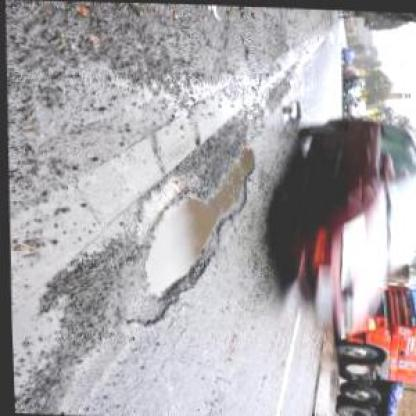pothole: (136, 139, 262, 308), (280, 97, 302, 123)
